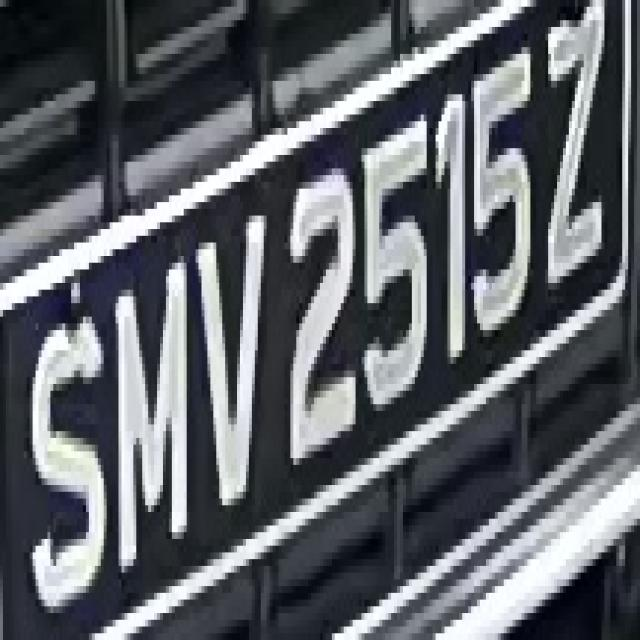1: (430, 60, 480, 398)
2: (284, 162, 358, 485)
5: (352, 108, 436, 418), (471, 41, 536, 350)
M: (112, 256, 202, 586)
S: (23, 283, 106, 620)
V: (198, 195, 278, 526)
Z: (534, 7, 620, 283)
